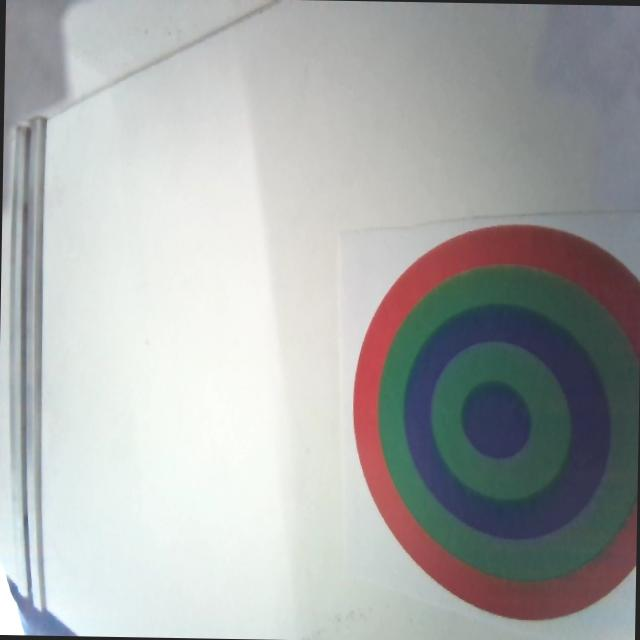cogn: (347, 221, 640, 622)
